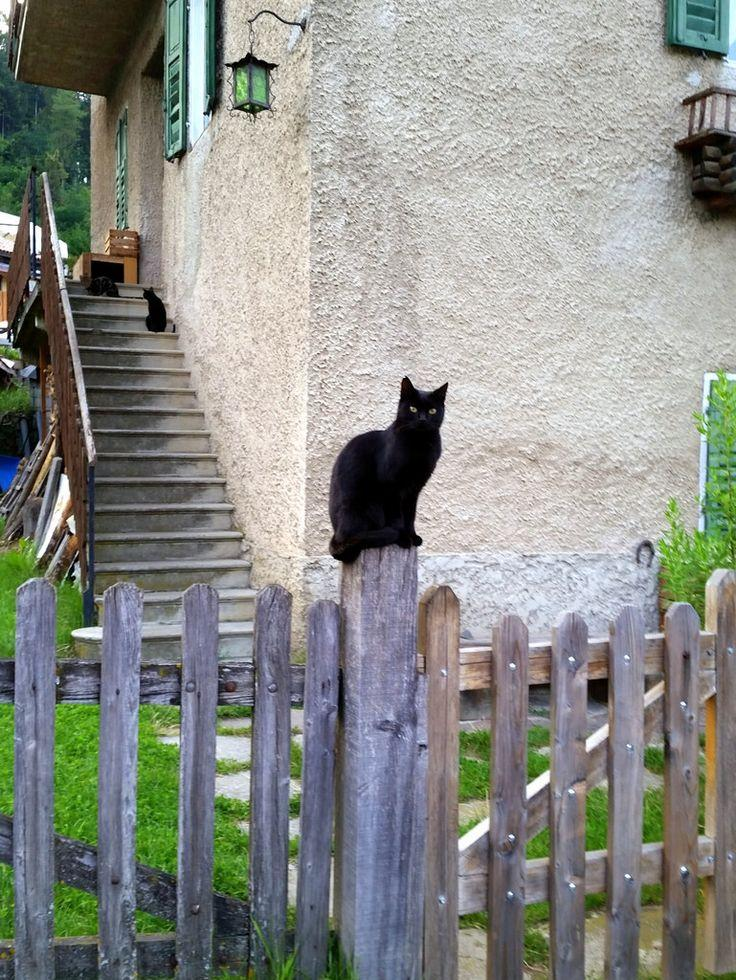kedo: (327, 375, 446, 561)
